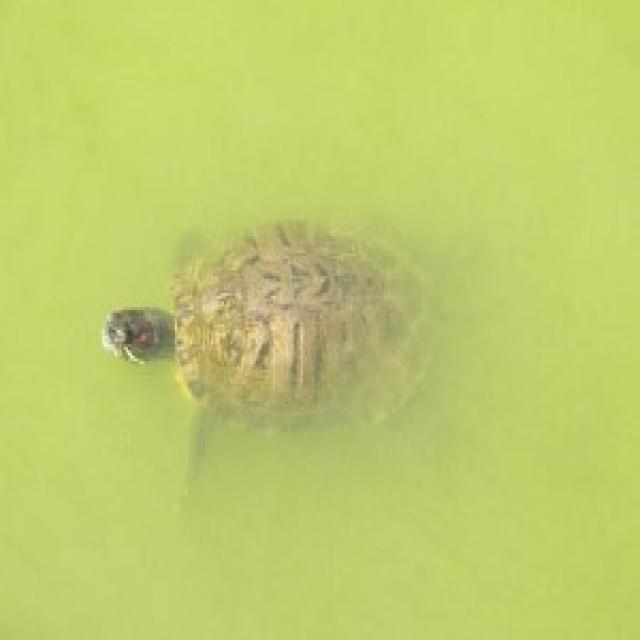Sea turtle: (86, 218, 463, 512)
